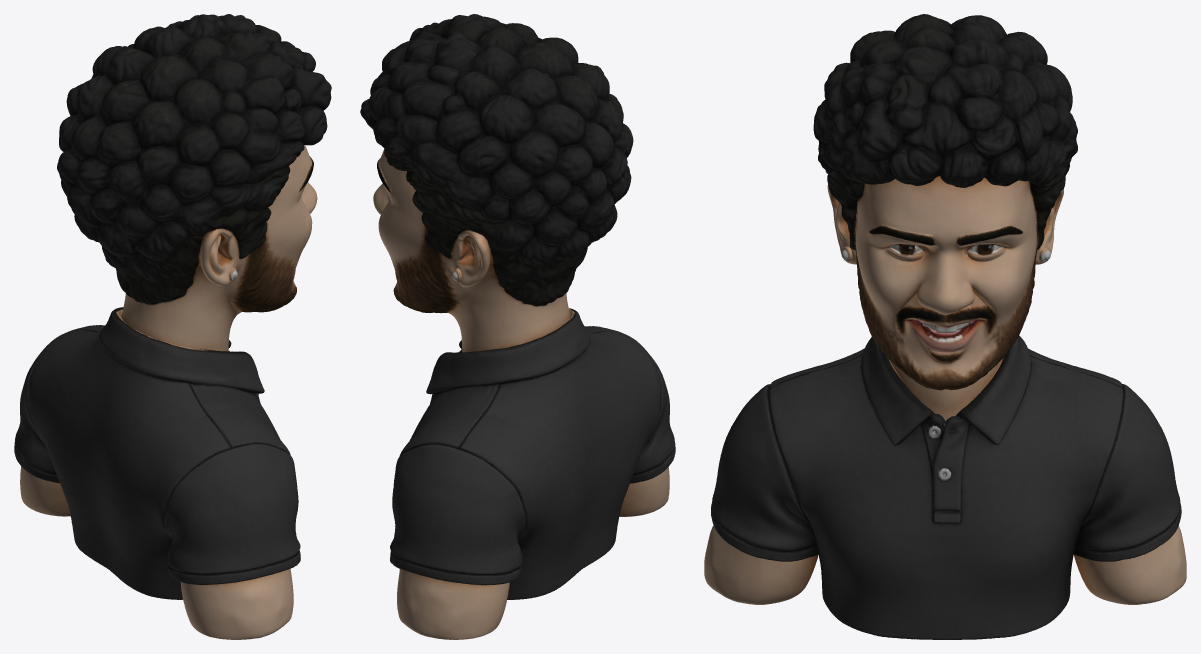
The model's file is sam_black_polo.glb.
3 views of the same model, side by side, from view 1: azimuth 30°, elevation 25°; view 2: azimuth 150°, elevation 25°; view 3: azimuth 270°, elevation 25° (orthographic). The views are drawn at different scales.
Visible parts, largest first — view 1: tripo_node_73adda8a-276c-46b6-a0a1-1b76b214f4a7; view 2: tripo_node_73adda8a-276c-46b6-a0a1-1b76b214f4a7; view 3: tripo_node_73adda8a-276c-46b6-a0a1-1b76b214f4a7.
Part boxes in pixels (x1,y1,x2,y2): tripo_node_73adda8a-276c-46b6-a0a1-1b76b214f4a7: (14,14,331,639); tripo_node_73adda8a-276c-46b6-a0a1-1b76b214f4a7: (360,14,675,639); tripo_node_73adda8a-276c-46b6-a0a1-1b76b214f4a7: (704,14,1186,639).
Size of the model in its own units: 0.4929 by 1 by 0.7606.
1 material, 1 textured.
